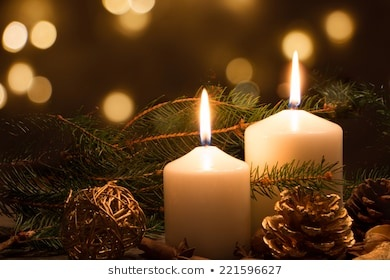fire: (198, 87, 212, 140), (289, 49, 301, 105)
